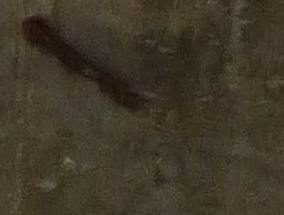Exposed reinforcement: (22, 15, 143, 108)
